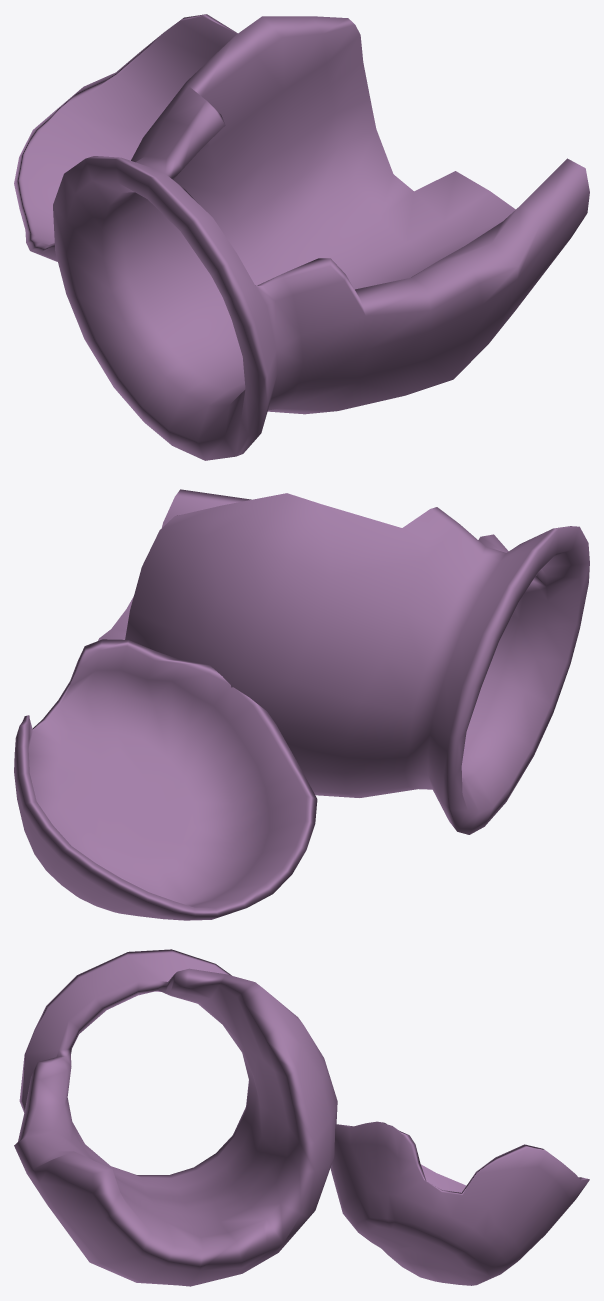
The model's file is Jar_Break_08A_Lod0.fbx.
The picture shows the model from 3 angles, top to bottom: view 1: azimuth 30°, elevation 25°; view 2: azimuth 150°, elevation 25°; view 3: azimuth 270°, elevation 25°; orthographic projection. The views are drawn at different scales.
Visible parts, largest first — view 1: Jar_Break_08A_Lod0; view 2: Jar_Break_08A_Lod0; view 3: Jar_Break_08A_Lod0.
Part boxes in pixels (left/top/right/bottom): Jar_Break_08A_Lod0: left=14, top=14, right=589, bottom=460; Jar_Break_08A_Lod0: left=14, top=489, right=589, bottom=920; Jar_Break_08A_Lod0: left=14, top=949, right=589, bottom=1286.
Size of the model in its own units: 52.57 by 40.23 by 74.91.
